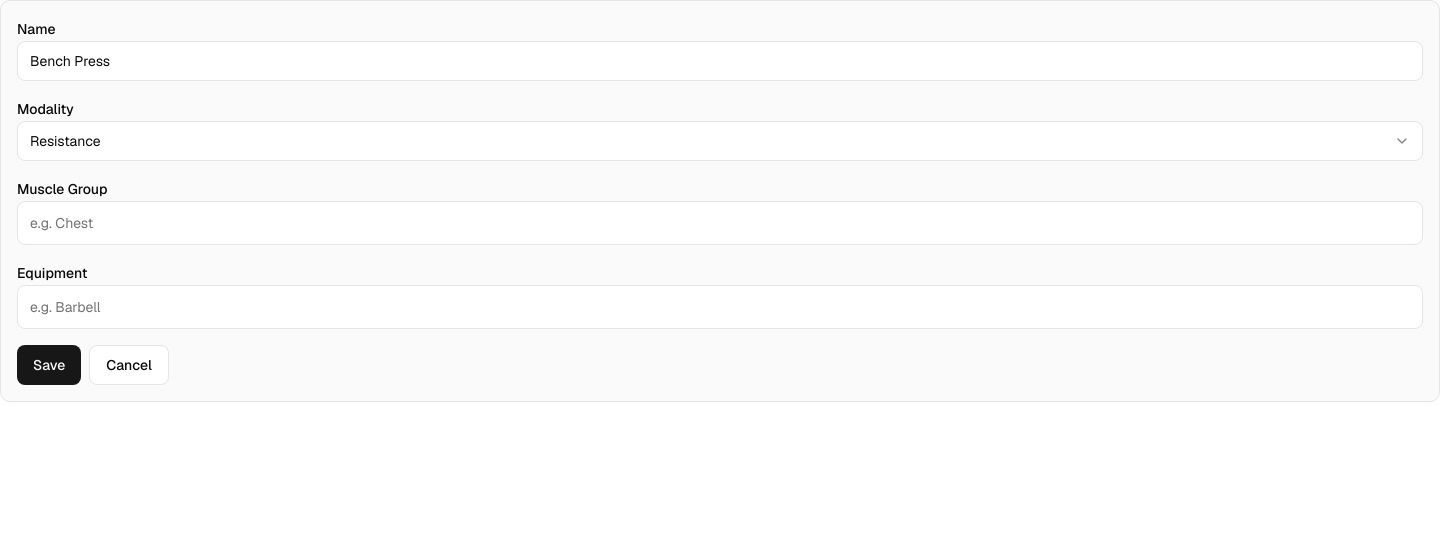
Scenario: EditExerciseForm › shows suggestions from options when combobox is focused
# Focus the equipment combobox — find by label
Click the dropdown labelled "Equipment". click: (720, 307)
box: [17,285,1423,329]
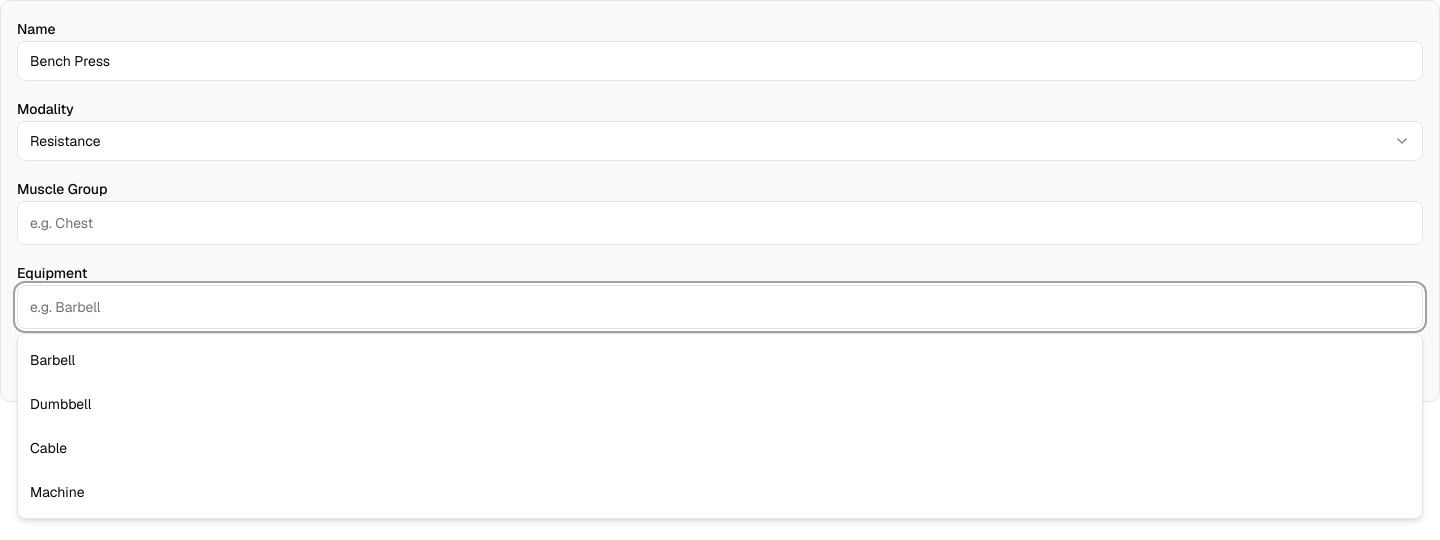
Expected: the list is shown, [17,333,1423,519]
Expected: the number of options is 4, [30,351,75,369]; [30,395,92,413]; [30,439,67,457]; [30,483,85,501]
